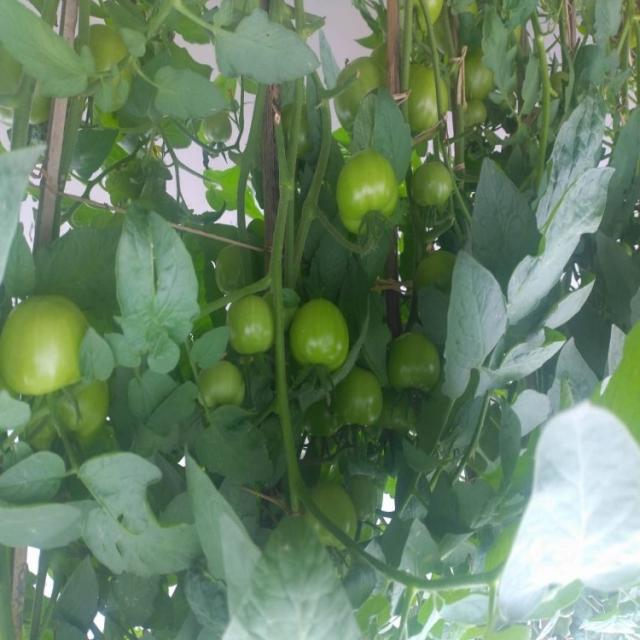tomato: (1, 280, 114, 405), (332, 150, 409, 253), (382, 325, 463, 404), (290, 287, 357, 374), (34, 379, 107, 446), (226, 285, 287, 356), (317, 55, 376, 123), (312, 474, 371, 539), (411, 65, 457, 139), (337, 379, 384, 435), (203, 355, 252, 404), (416, 174, 465, 219)
